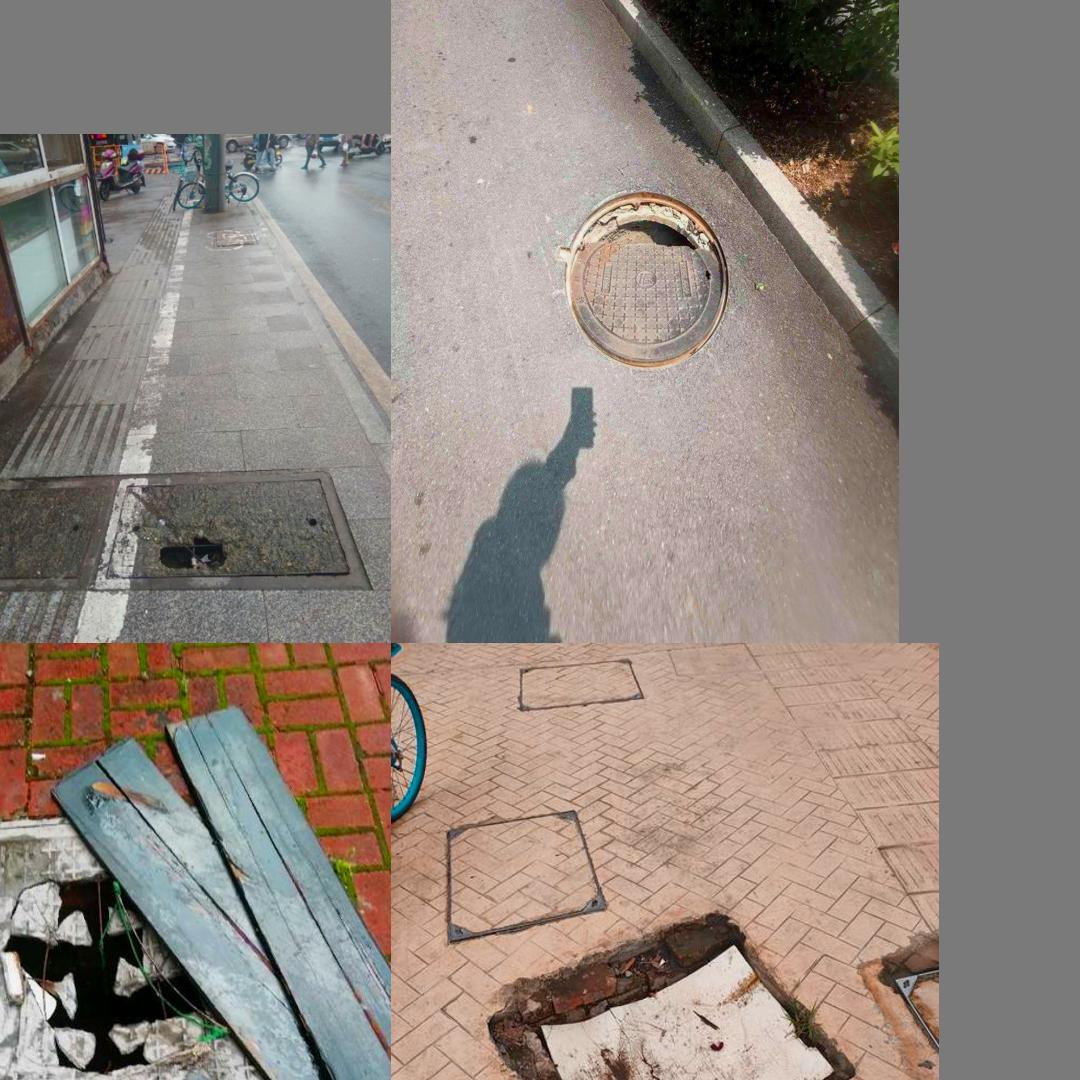broke: (0, 776, 379, 1080), (474, 889, 865, 1080), (92, 471, 369, 592), (555, 192, 725, 367)
good: (0, 475, 116, 588)
